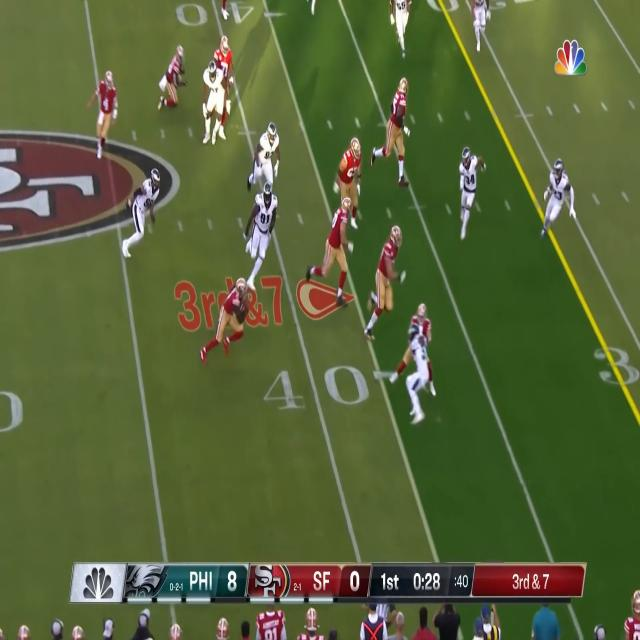football: (240, 299, 247, 315)
players: (363, 227, 411, 344), (371, 75, 417, 196), (306, 198, 353, 309), (389, 302, 438, 396), (242, 179, 280, 298), (202, 279, 250, 363), (120, 170, 160, 262), (89, 70, 123, 172), (455, 147, 490, 241), (338, 138, 372, 232), (538, 158, 576, 236), (248, 118, 282, 200), (403, 322, 430, 424), (155, 44, 189, 114), (213, 37, 234, 141), (203, 62, 227, 147), (388, 0, 418, 65), (465, 0, 491, 61)
